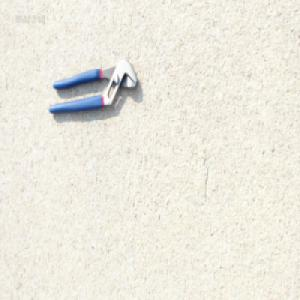Pliers: (48, 57, 139, 116)
